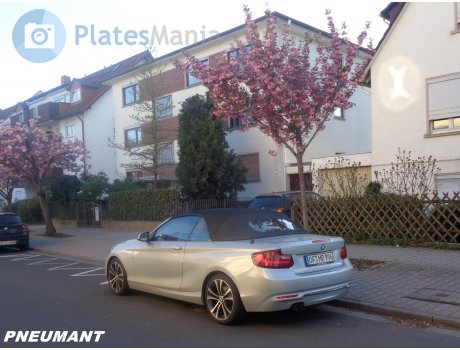License Plates: (302, 249, 337, 259)
